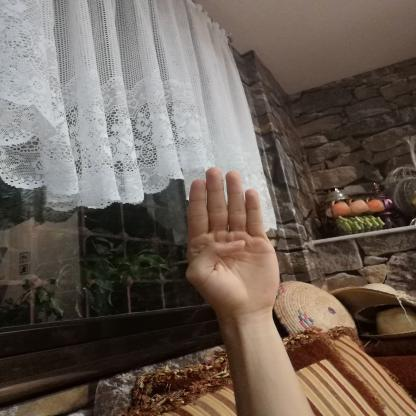KAAF: (166, 158, 297, 326)
